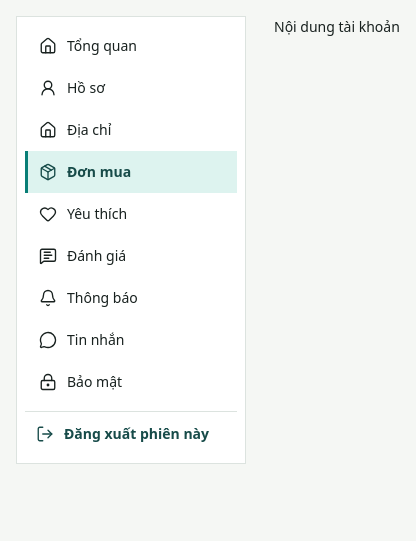
Test: đăng xuất phiên hiện tại từ khu vực tài khoản › giữ người dùng tại chỗ và công bố lỗi khi máy chủ chưa xác nhận đăng xuất
The width and height of the screenshot is (416, 541).
Click the button "Đăng xuất phiên này".
click(131, 433)  # box [25,411,237,455]
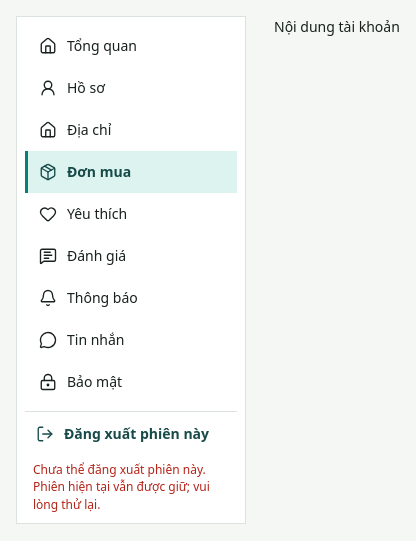
expect the message shows "Phiên hiện tại vẫn được giữ": met, box [33,461,210,513]
